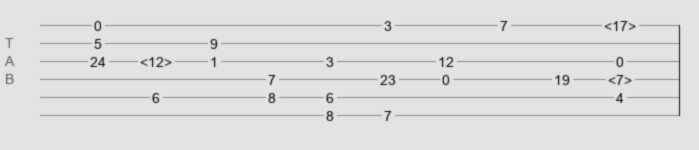0: (94, 18, 102, 28), (442, 72, 450, 82), (616, 54, 624, 64)
1: (210, 54, 218, 64)
12: (438, 54, 454, 64)
19: (554, 72, 570, 82)
23: (380, 72, 396, 82)
24: (90, 54, 106, 64)
3: (326, 54, 334, 64), (384, 18, 392, 28)
4: (616, 90, 624, 100)
5: (94, 36, 102, 46)
6: (152, 90, 160, 100), (326, 90, 334, 100)
7: (268, 72, 276, 82), (384, 108, 392, 118), (500, 18, 508, 28)
8: (268, 90, 276, 100), (326, 108, 334, 118)
9: (210, 36, 218, 46)
harmonic: (140, 54, 172, 64), (604, 18, 636, 28), (608, 72, 632, 82)
